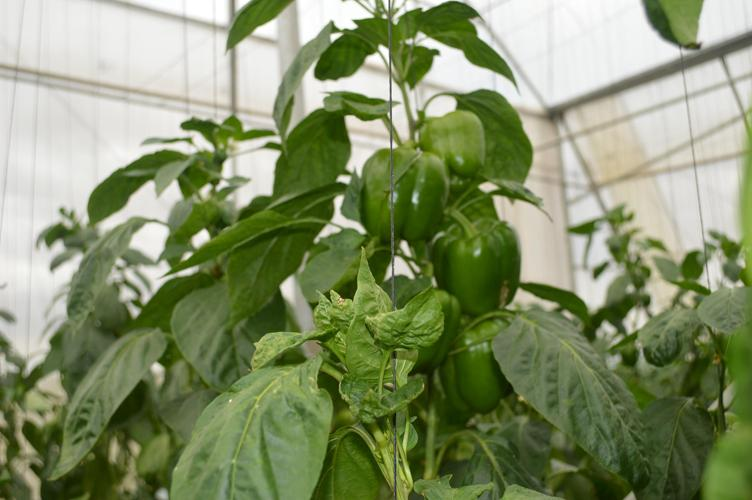BellPepper: (348, 151, 455, 258), (428, 223, 528, 323), (438, 321, 522, 405), (382, 280, 459, 357), (411, 115, 485, 189)
